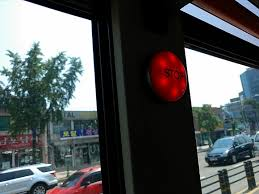bell: (147, 44, 189, 108)
